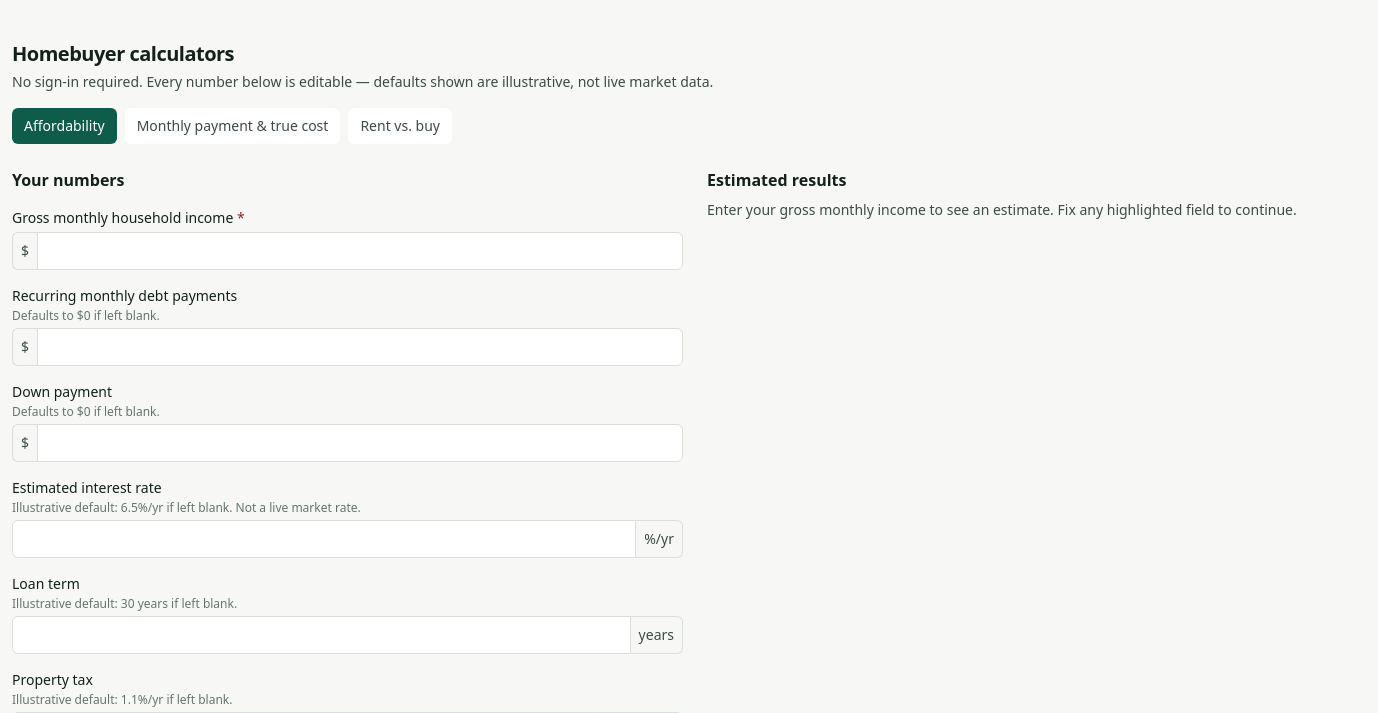
Scenario: CalculatorsSection accessibility › exposes a validation error via aria-describedby once a required field is touched and left invalid
This screenshot has width=1378, height=713.
Click the number field labelled "Gross monthly household income *": (360, 251) left=37, top=232, right=683, bottom=270
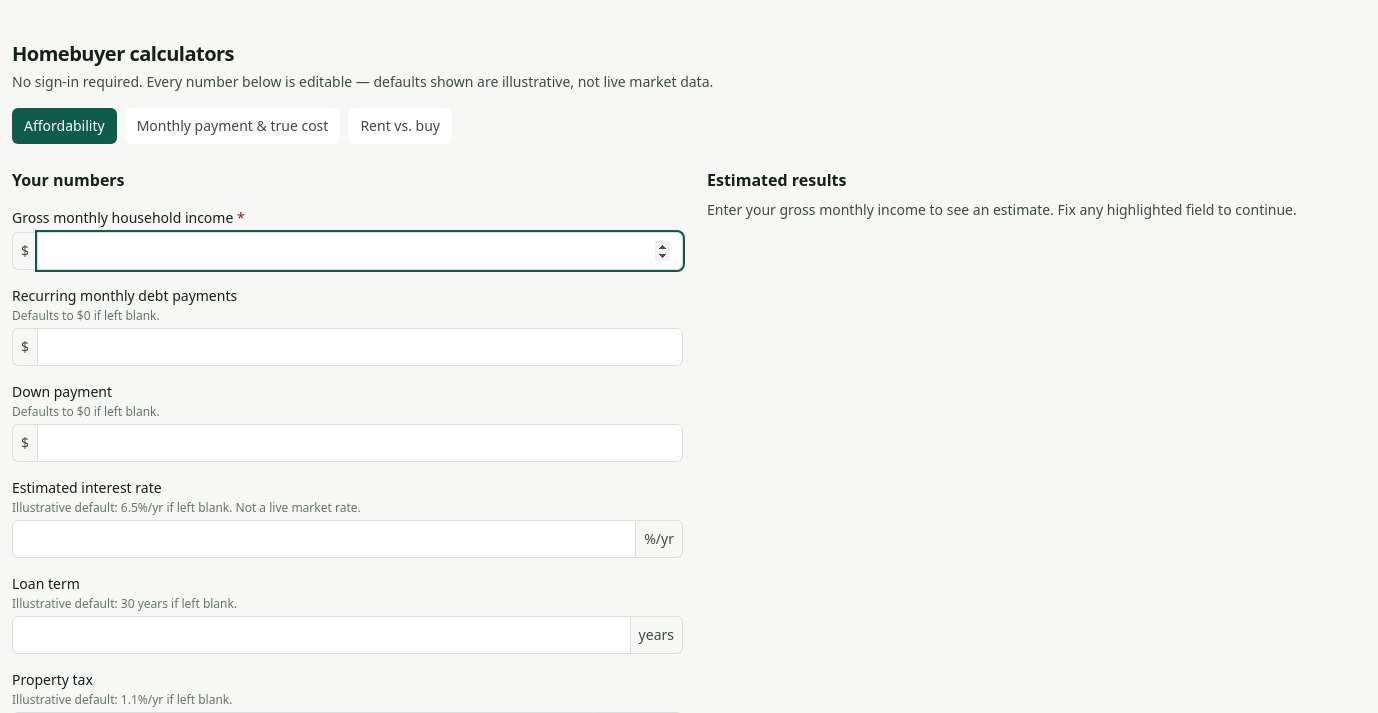
Press Tab
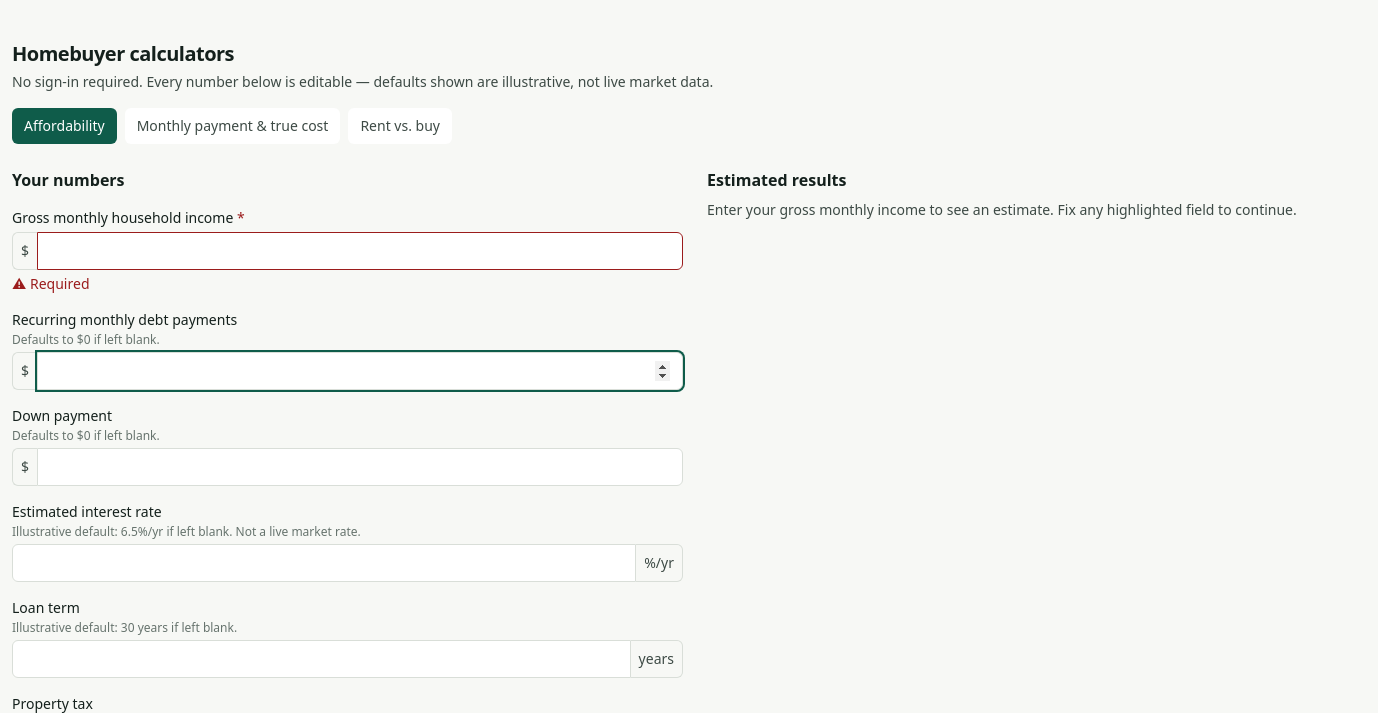
Check: the message "⚠ Required" is shown, box left=12, top=274, right=90, bottom=293
